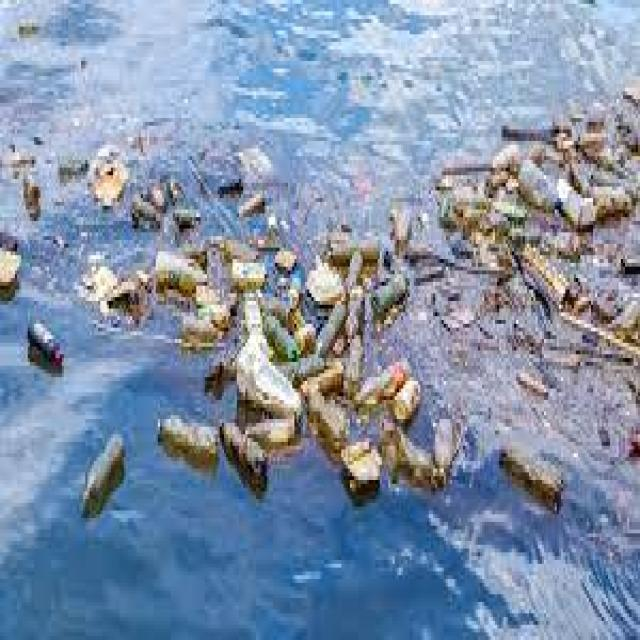plasticbottle: (235, 301, 412, 502), (494, 429, 564, 521), (155, 400, 222, 480), (76, 420, 126, 524), (150, 241, 212, 313), (522, 160, 585, 220), (26, 315, 71, 380), (324, 227, 390, 265)
